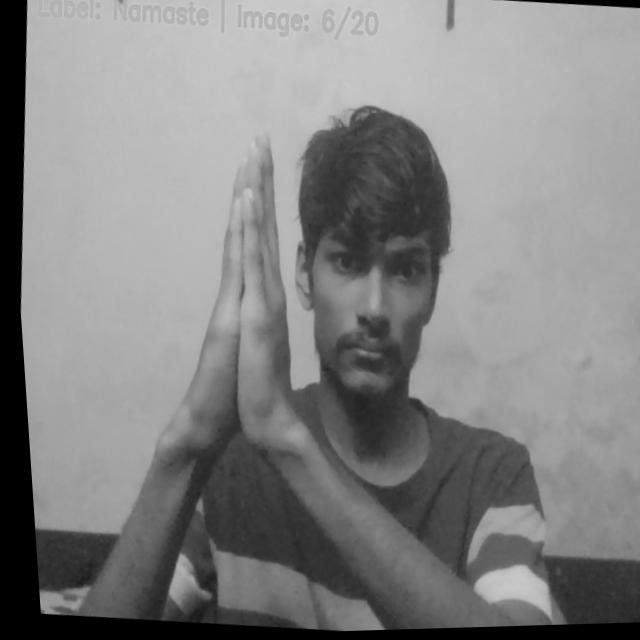Namaste: (183, 121, 311, 446)
